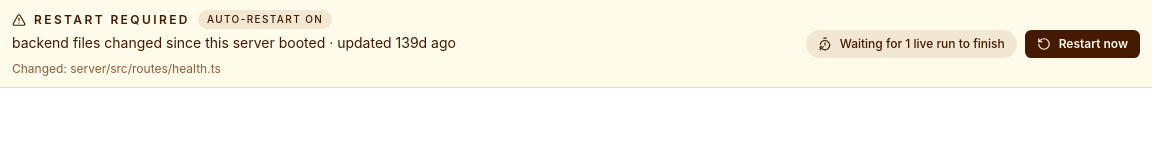
it: DevRestartBanner › confirms and requests an immediate restart while waiting for live runs
Click the button "Restart now" at x=1082, y=44, box [1025,30,1140,58]
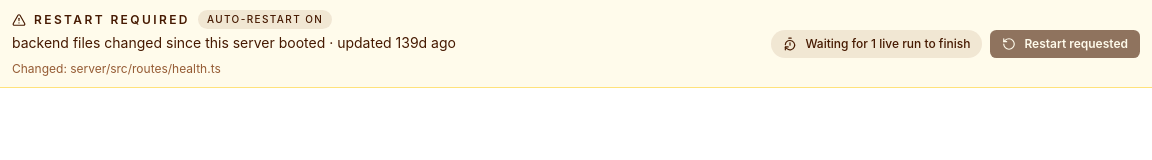
expect the text "Restart requested" is shown: met, box [1024,36,1128,52]
